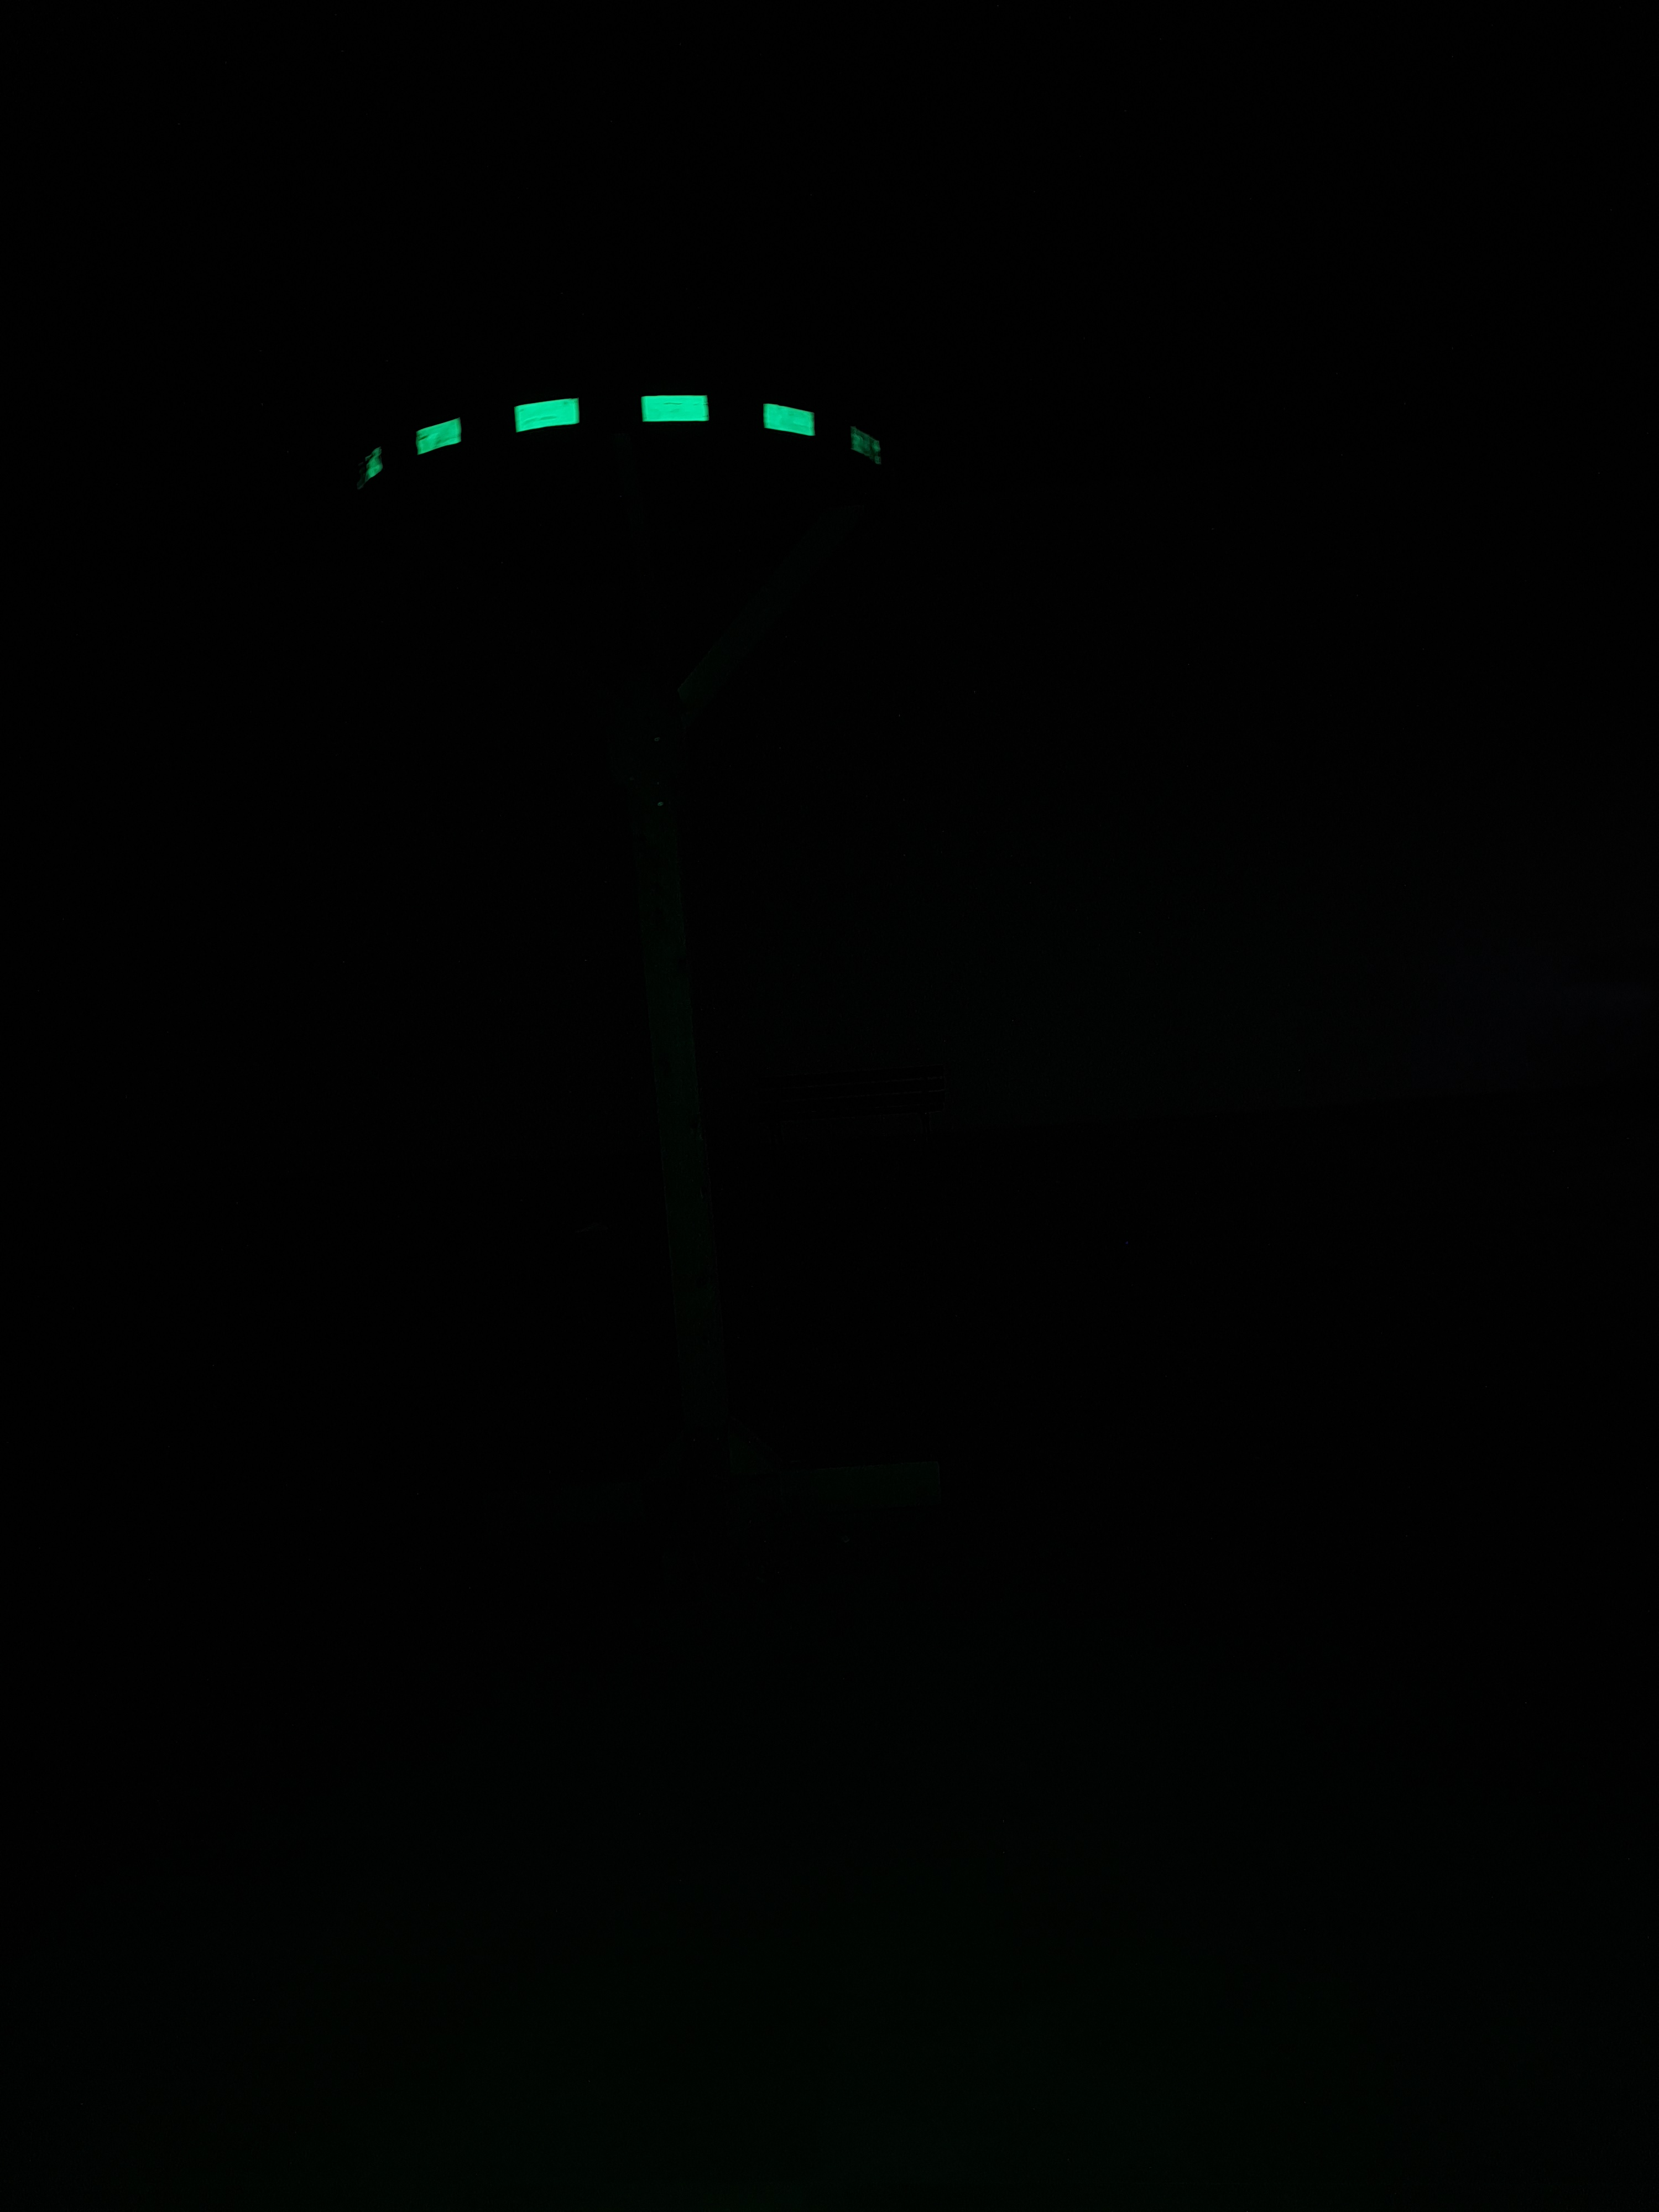hoop: (350, 387, 884, 503)
